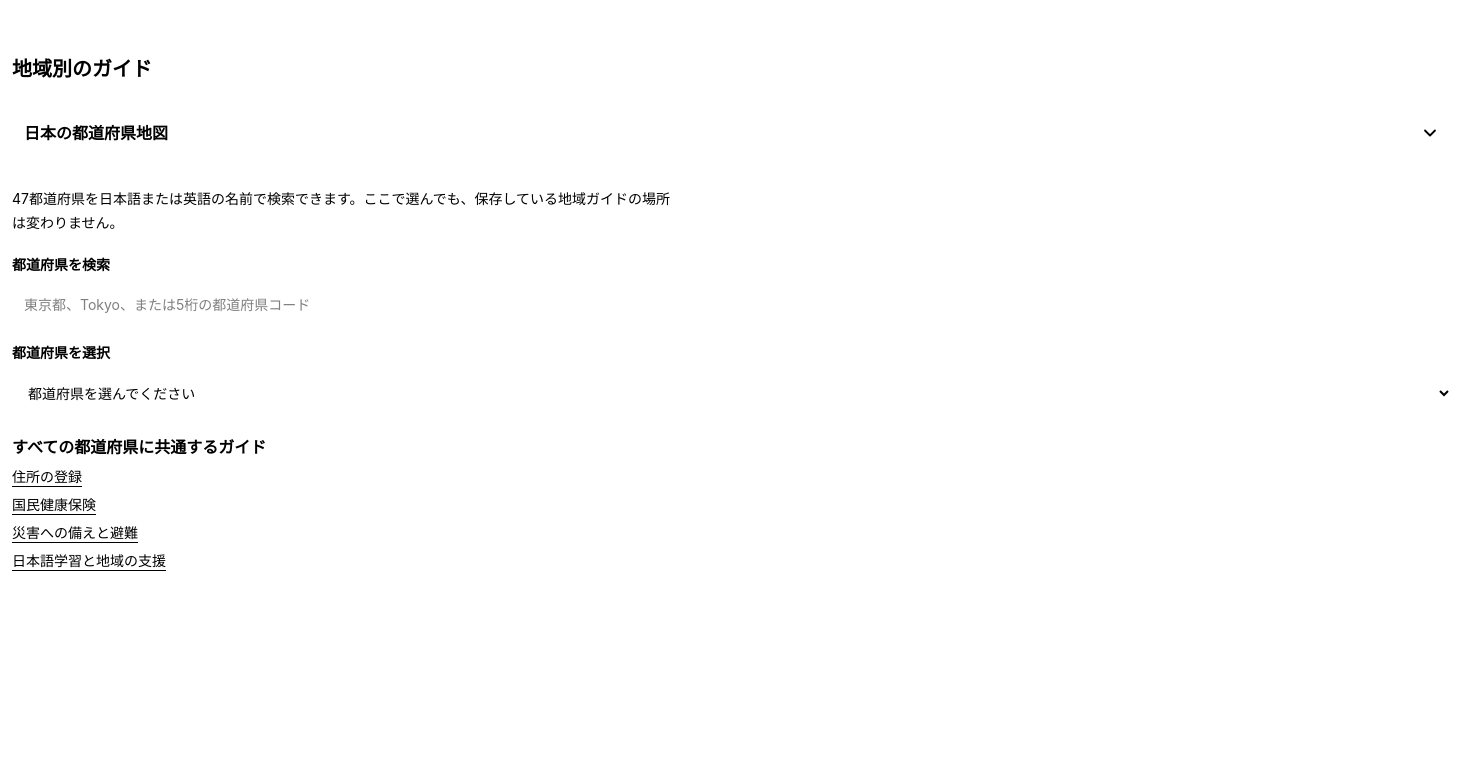
Test case: PrefectureFinder › names municipalities, Tokyo areas, dates, and translated supplements in Japanese
Select "東京都" in the dropdown labelled "都道府県を選択" at (732, 393), box [12,371,1452,415]
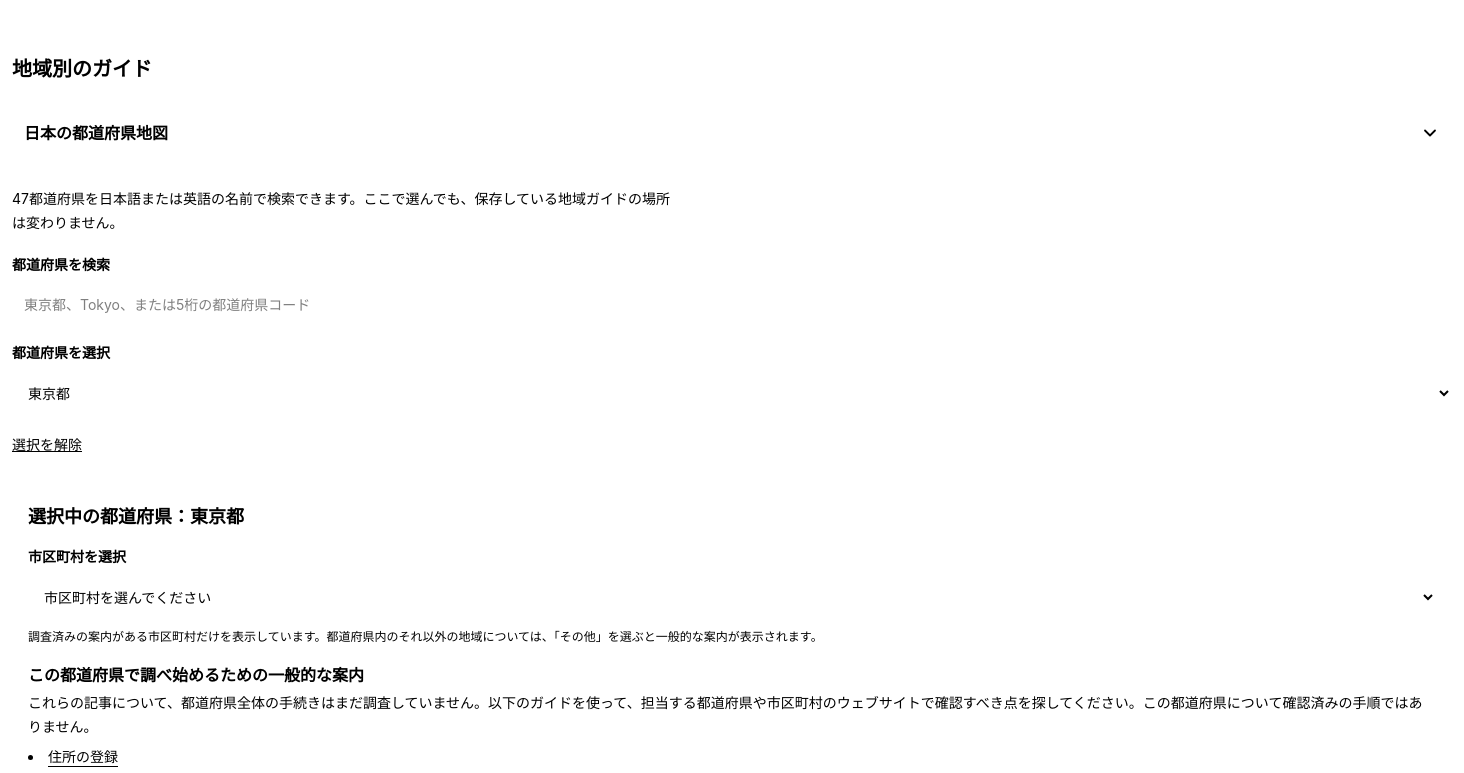
Select "新宿区" in the dropdown labelled "市区町村を選択" at (732, 597), box [28,575,1436,619]
(page scrolled)
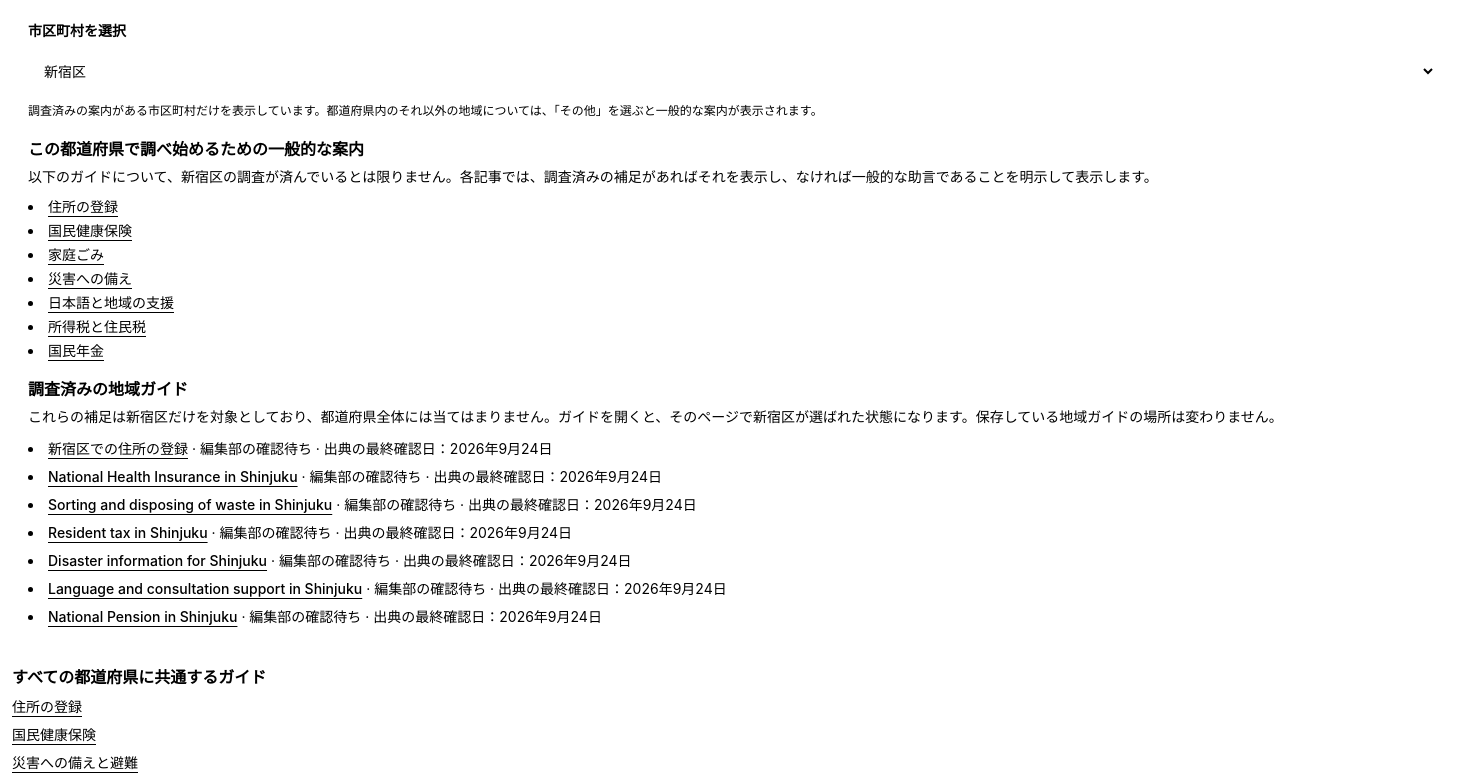
Expected: the text "これらの補足は新宿区だけを対象" is shown, [28,408,1283,425]
Expected: the link "National Health Insurance in Shinjuku" is shown, [48,468,298,485]
Expected: the text "· 編集部の確認待ち · 出典の最終確認日：2026年9月24日" next to "新宿区での住所の登録" is shown, [188,440,552,457]
